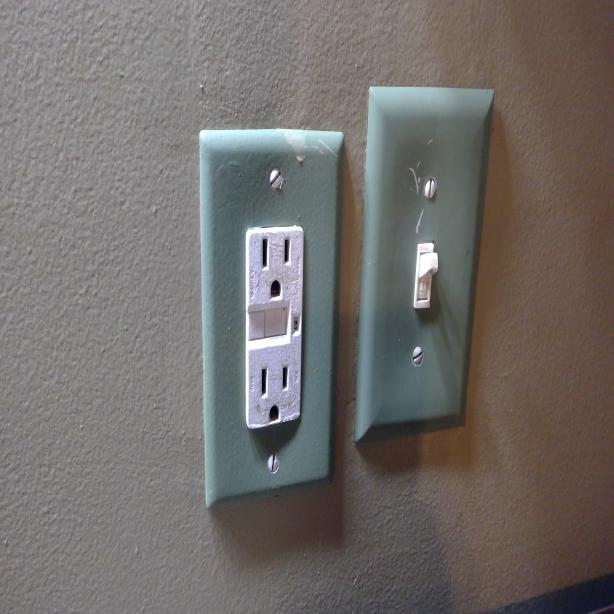typeb: (251, 231, 302, 314), (248, 349, 297, 424)
